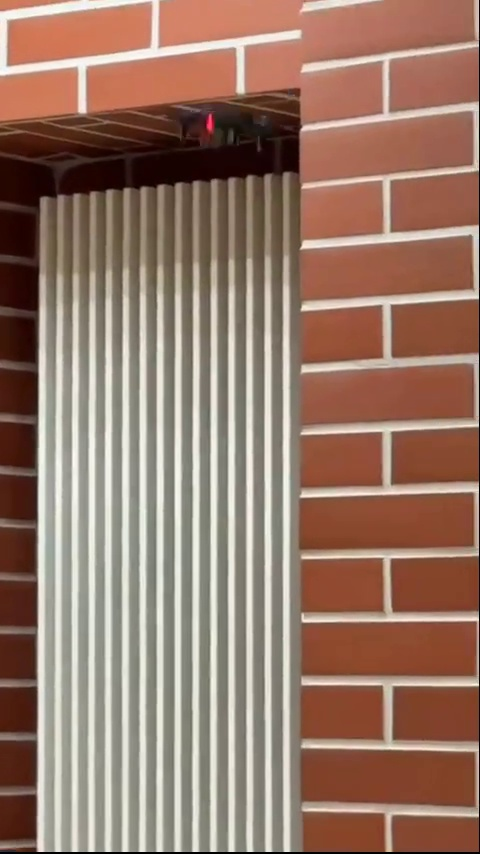drone: (164, 105, 295, 160)
